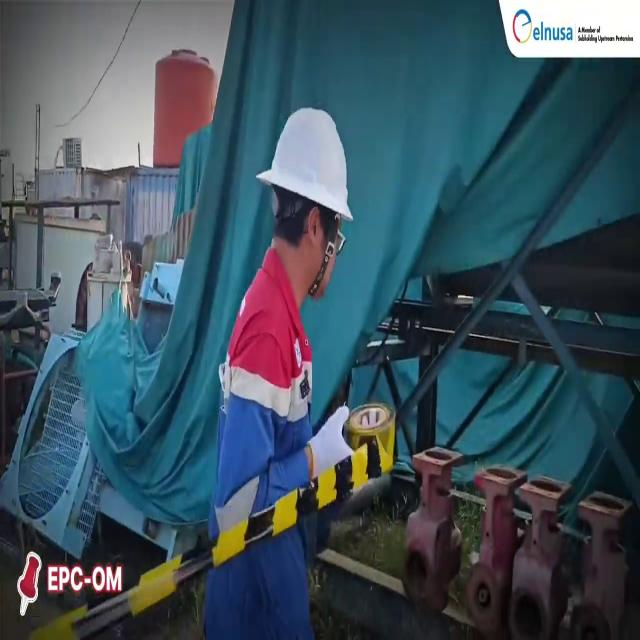Gloves: (309, 402, 352, 466)
Hardhat: (256, 107, 356, 222)
Overall Suit: (205, 245, 315, 640)
Strapped: (308, 217, 341, 301)
